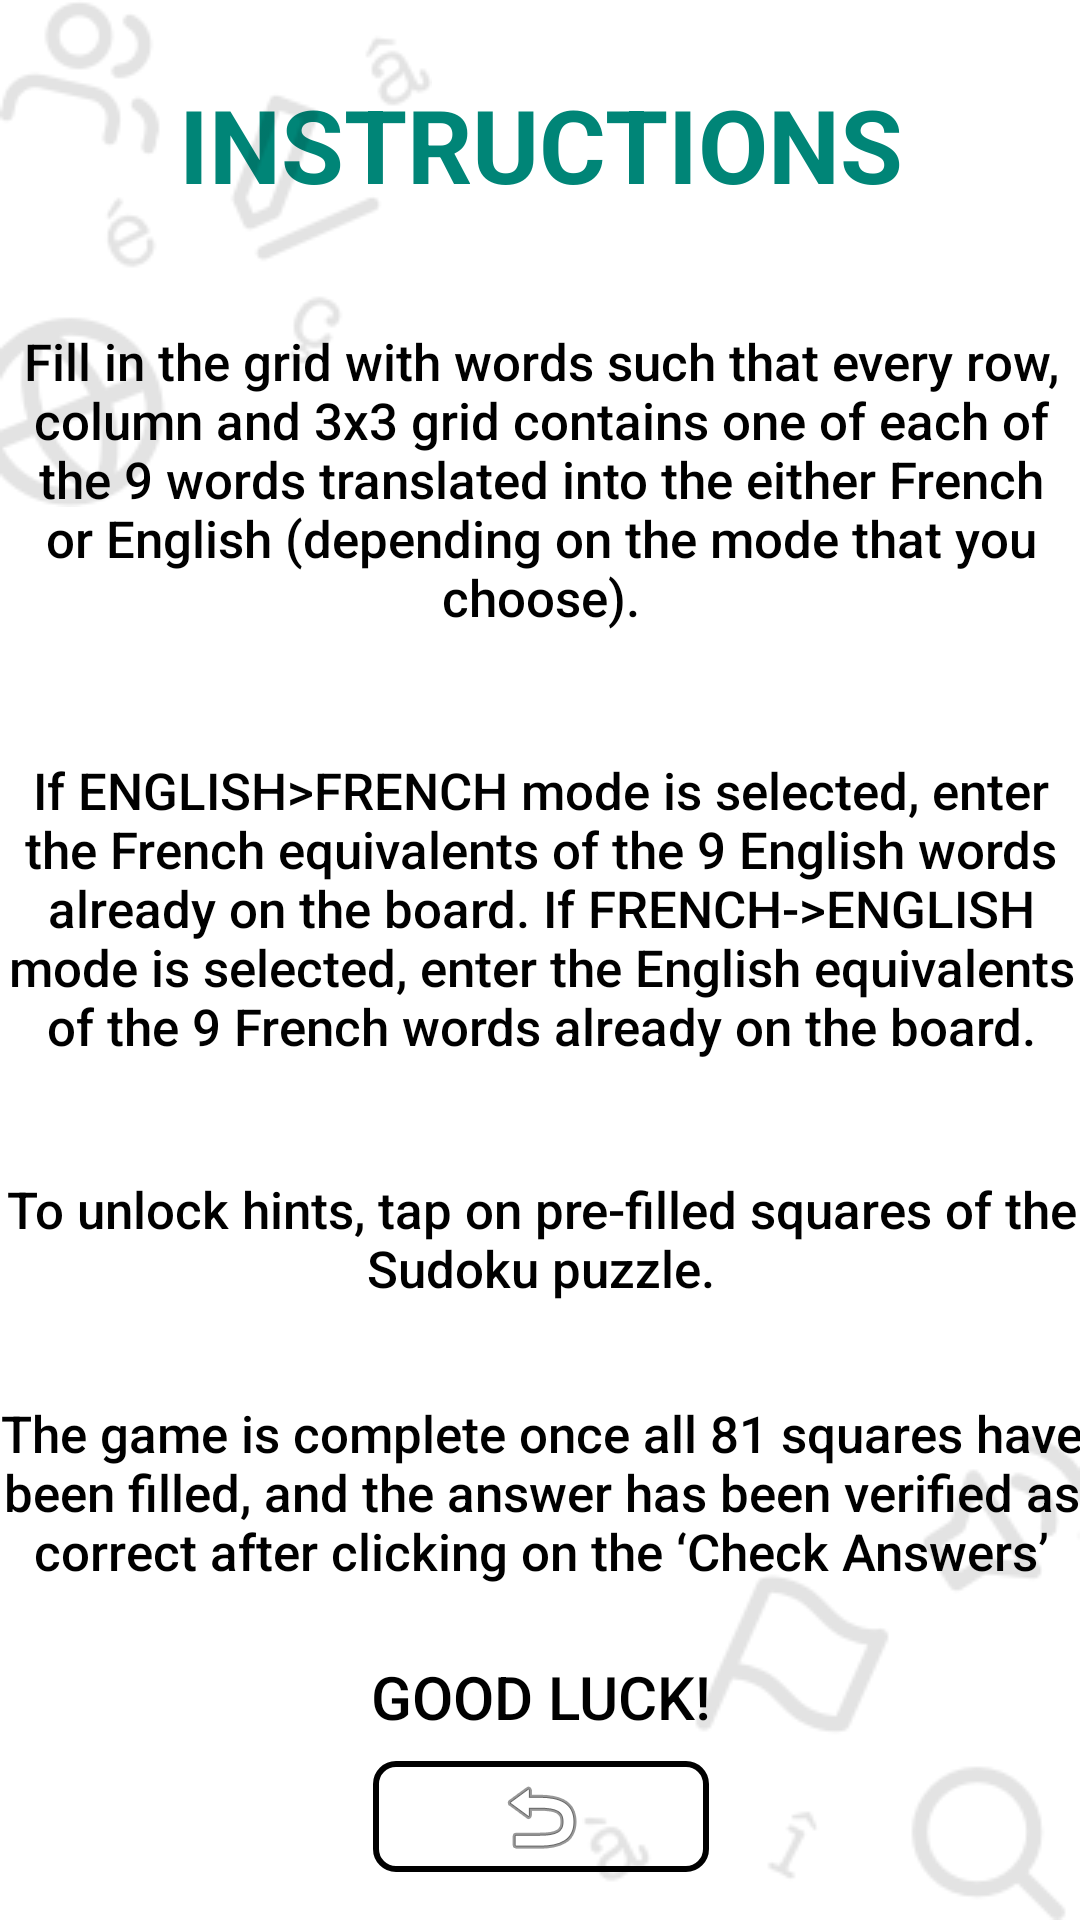

Where to tap for icons on this 1080*1920 app screen, as (x=x, y=y):
Go Back to Main Menu: (x=541, y=1816)
